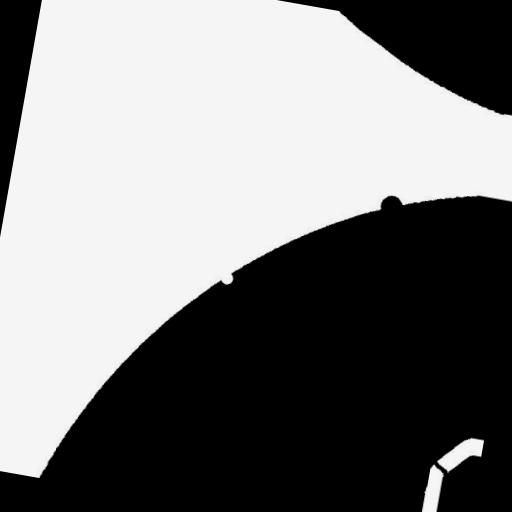mousebite: (211, 262, 242, 293)
short: (416, 448, 458, 484)
spur: (370, 184, 412, 227)
